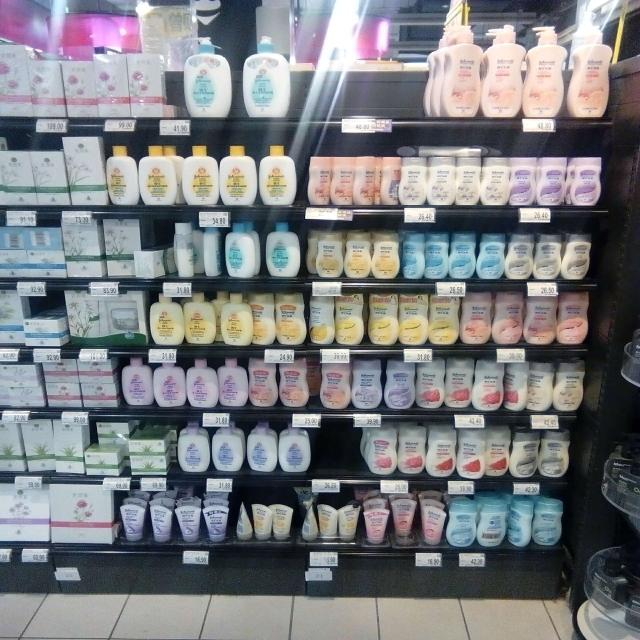void: (298, 24, 346, 147), (350, 20, 395, 149), (397, 19, 433, 142), (321, 424, 363, 493)
